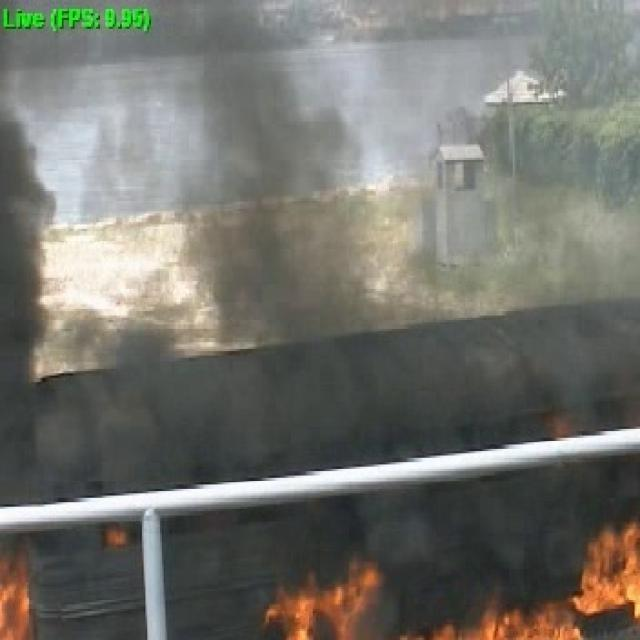Fire: (274, 568, 634, 640)
Smoke: (196, 60, 348, 326)
